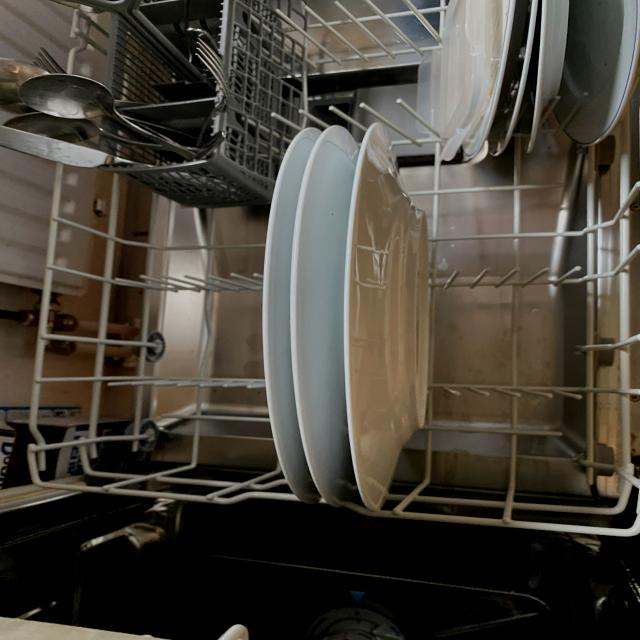clutery_bin: (62, 1, 223, 180)
empty_slot: (433, 175, 624, 497), (50, 190, 259, 480), (266, 0, 432, 129)
